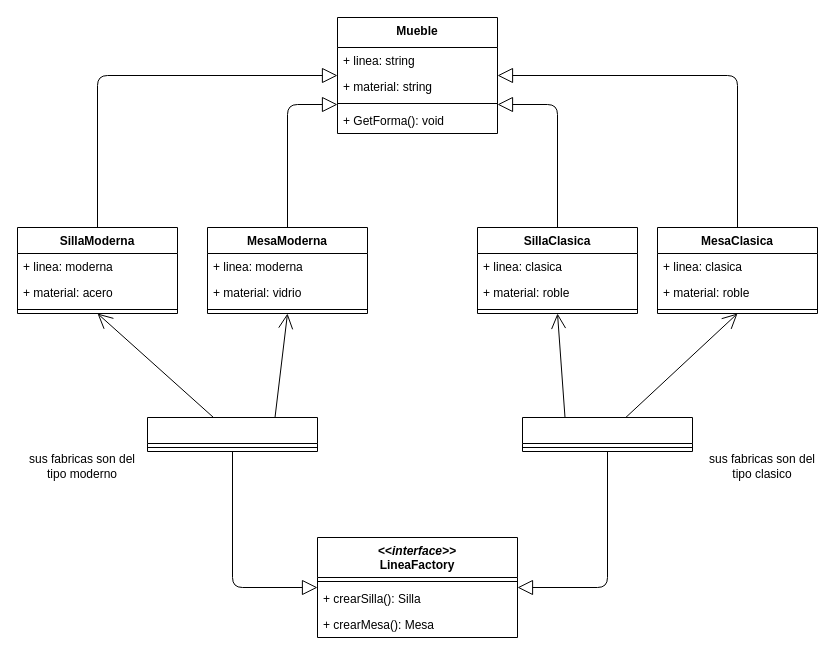
The diagram is 835 pixels wide and 658 high, and some of its shapes have lost their labels. The centre of each missing label's shape, as x and y in pixels:
"LineaClasicaFactory" belongs at (x=607, y=434).
"LineaModernaFactory" belongs at (x=232, y=434).
